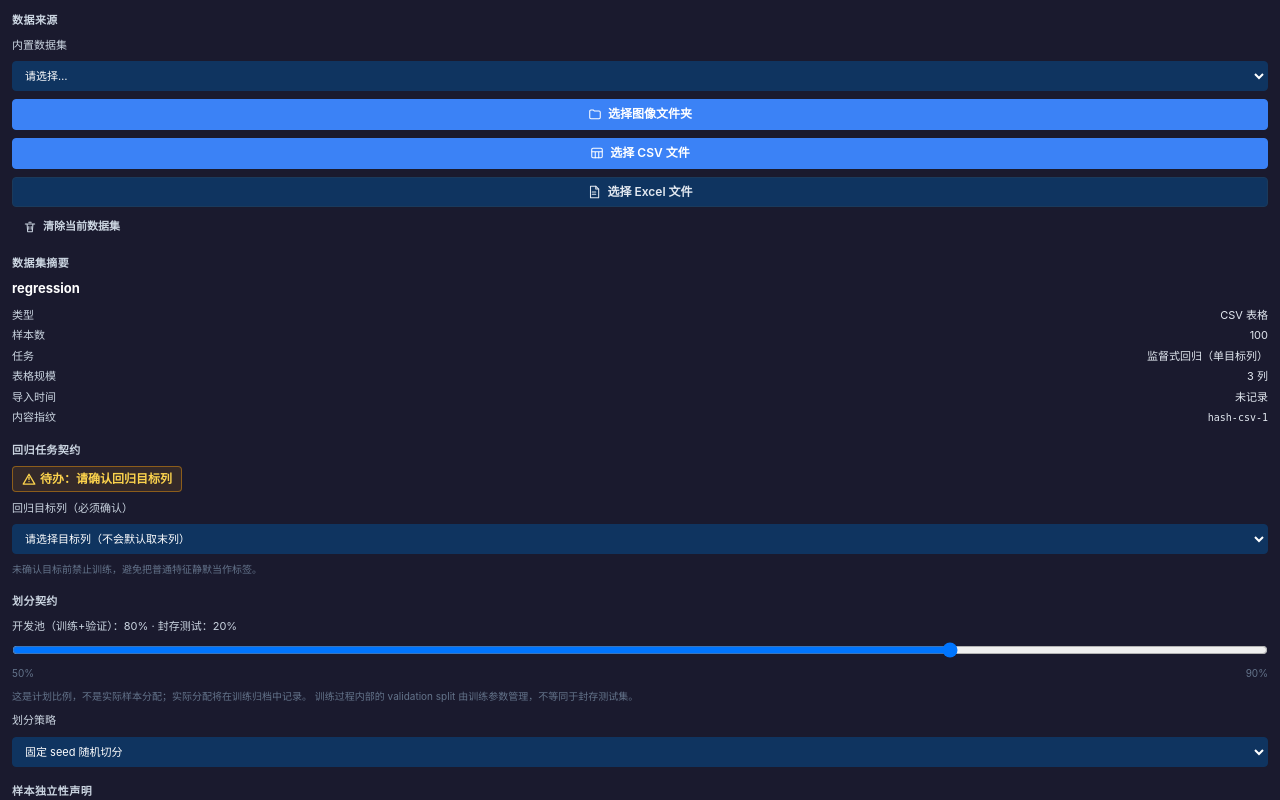
数据集工作台：网络适配确认 › 20. 弹窗打开期间数据集被替换，旧计划不得应用
The width and height of the screenshot is (1280, 800).
Select "target" in the dropdown labelled "回归目标列" at [640, 539], box [12,524,1268,554]
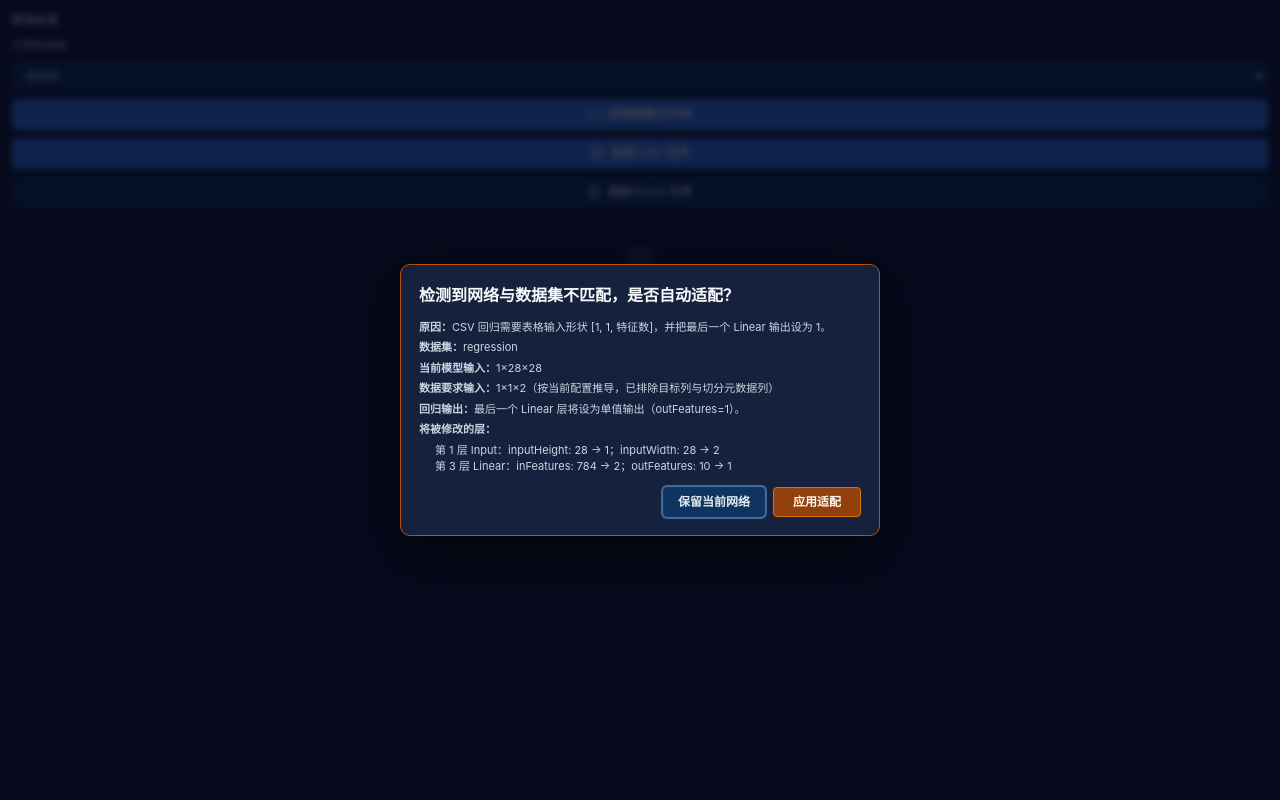
Expected: the dialog is shown, [400,264,880,536]
Click the button "应用适配".
click(817, 502)  # box [773,487,861,517]
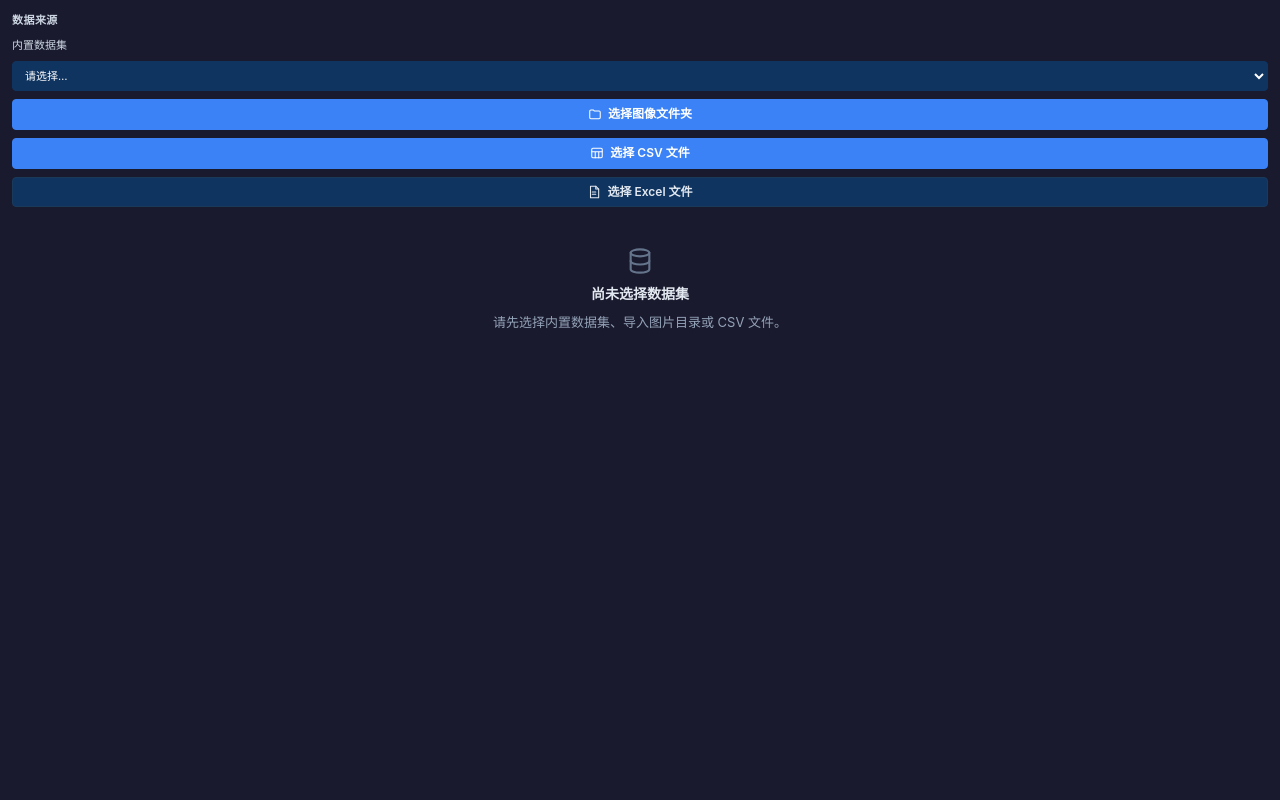
Expected: the dialog is gone
